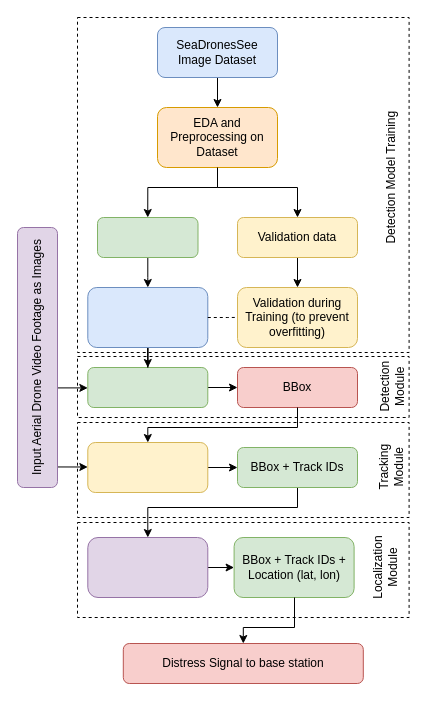
Image size: 447x701. Some labels were removed from this diagram. Here are the shapes that lost their labels. From the top down, the centre of each, then its label:
point (147, 237): Training data
point (147, 317): Enhanced RT-DETR Model Training
point (147, 387): Trained Model
point (147, 467): Visually Augmented Kalman Tracker
point (147, 567): Geo-Pixel Localization
